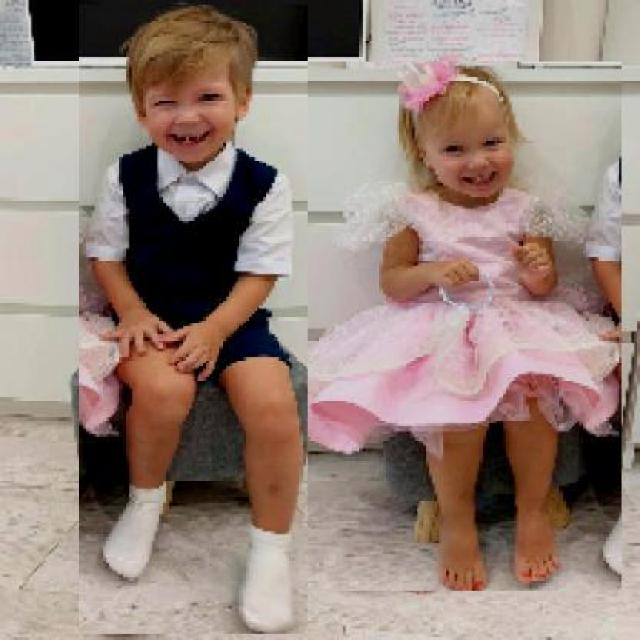child: (264, 62, 622, 592), (79, 4, 308, 636)
